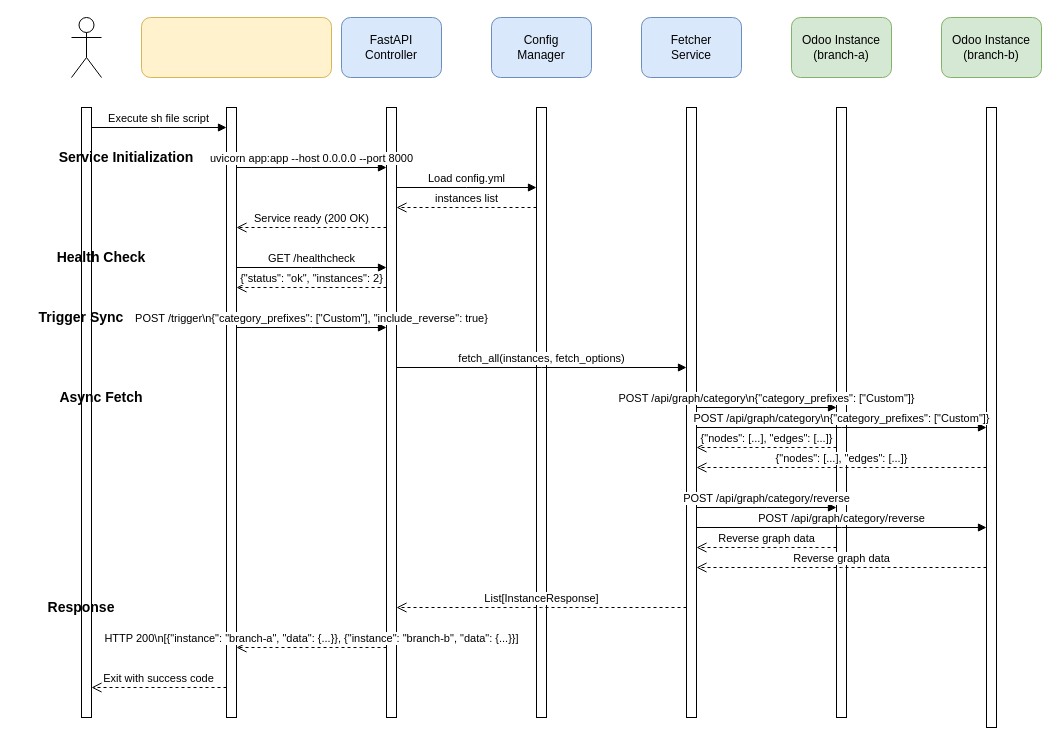
This 1059x745 diagram has some shape labels left out. Here are the shapes that lost their labels. From the top down, the centre of each, then its label:
point 86,47: GitHub Actions\nWorkflow
point 236,47: fetch_branches_dependecies.sh
